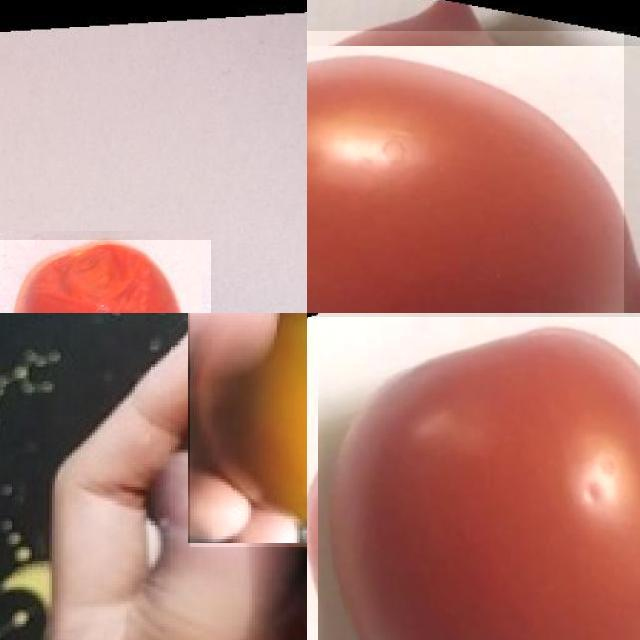Fresh Tomato: (307, 316, 640, 640), (307, 30, 624, 313)
Rotten Tomato: (190, 313, 307, 546), (0, 240, 210, 313)
